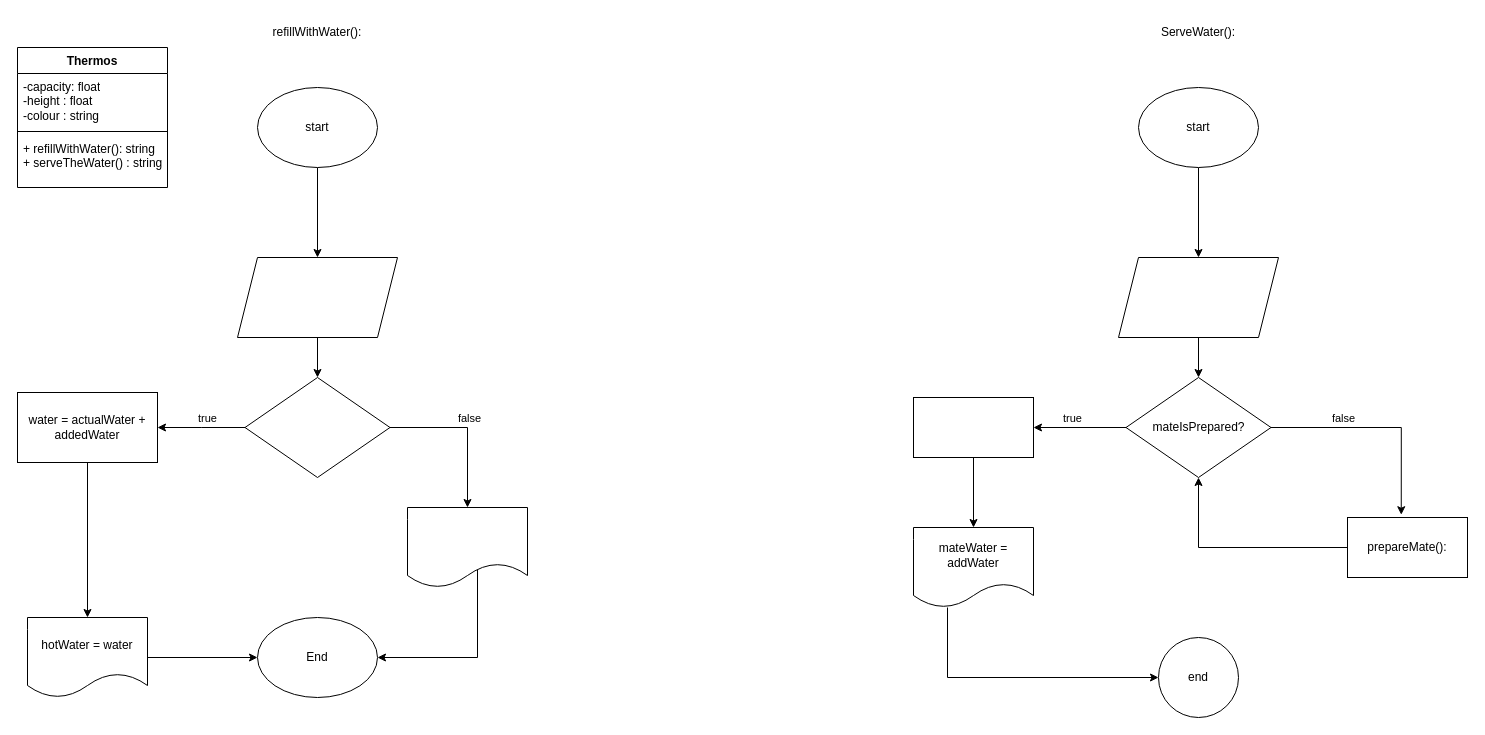
Image size: 1485x735. Some labels were removed from this diagram. Each missing label, with the box of its shape:
"The thermos has water": (406, 506, 528, 588)
addWater = actualWater + thermosWater: (912, 396, 1034, 458)
capacity <= 200cm3: (244, 376, 390, 478)
getAmountWater(): (236, 256, 398, 338)
getMateIsReady():: (1118, 256, 1278, 338)
